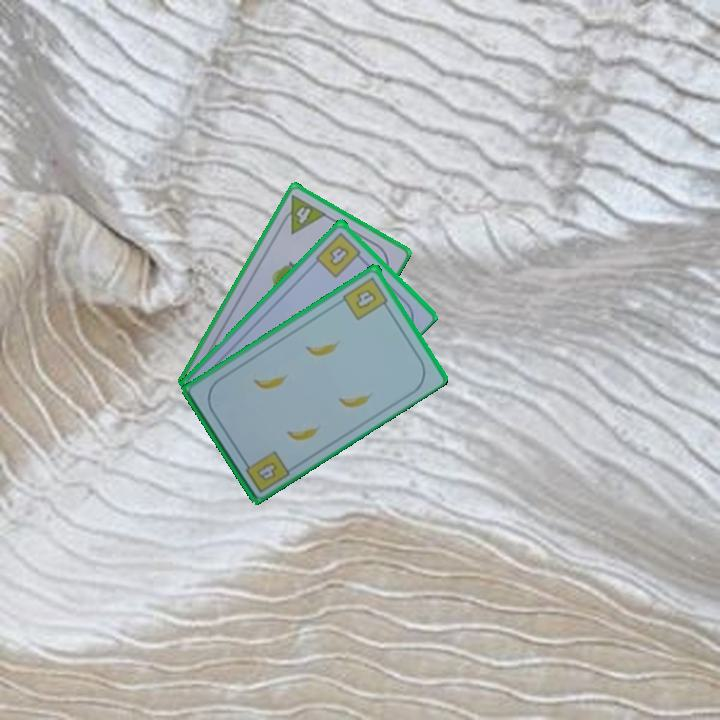4b: (312, 228, 367, 280), (339, 273, 392, 323), (238, 447, 292, 495)
4p: (276, 191, 329, 237)
